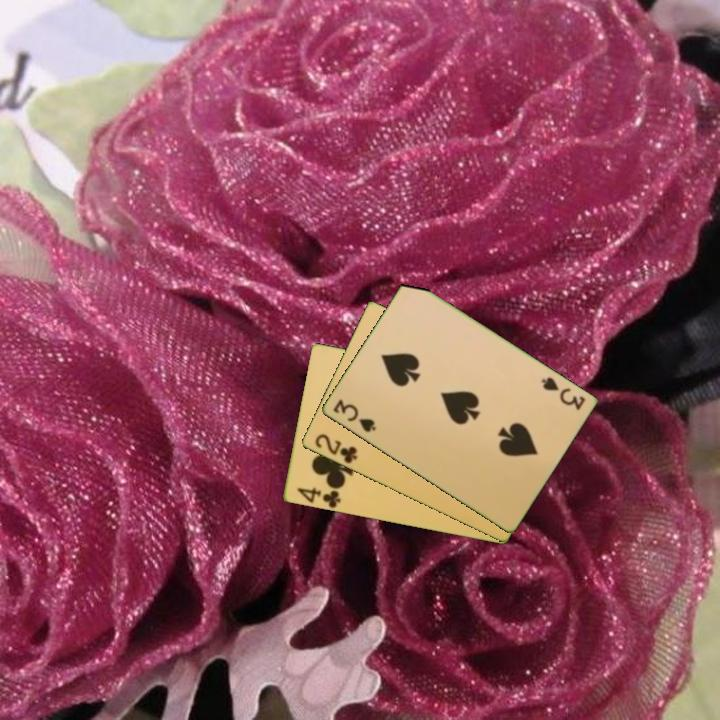2c: (311, 430, 360, 467)
3s: (537, 373, 588, 413), (329, 396, 379, 435)
4c: (293, 484, 343, 510)
